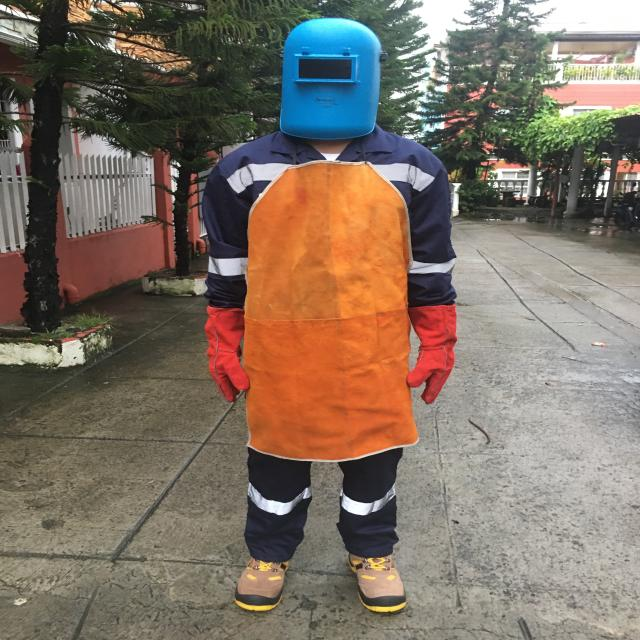with_helmet: (275, 8, 387, 144)
